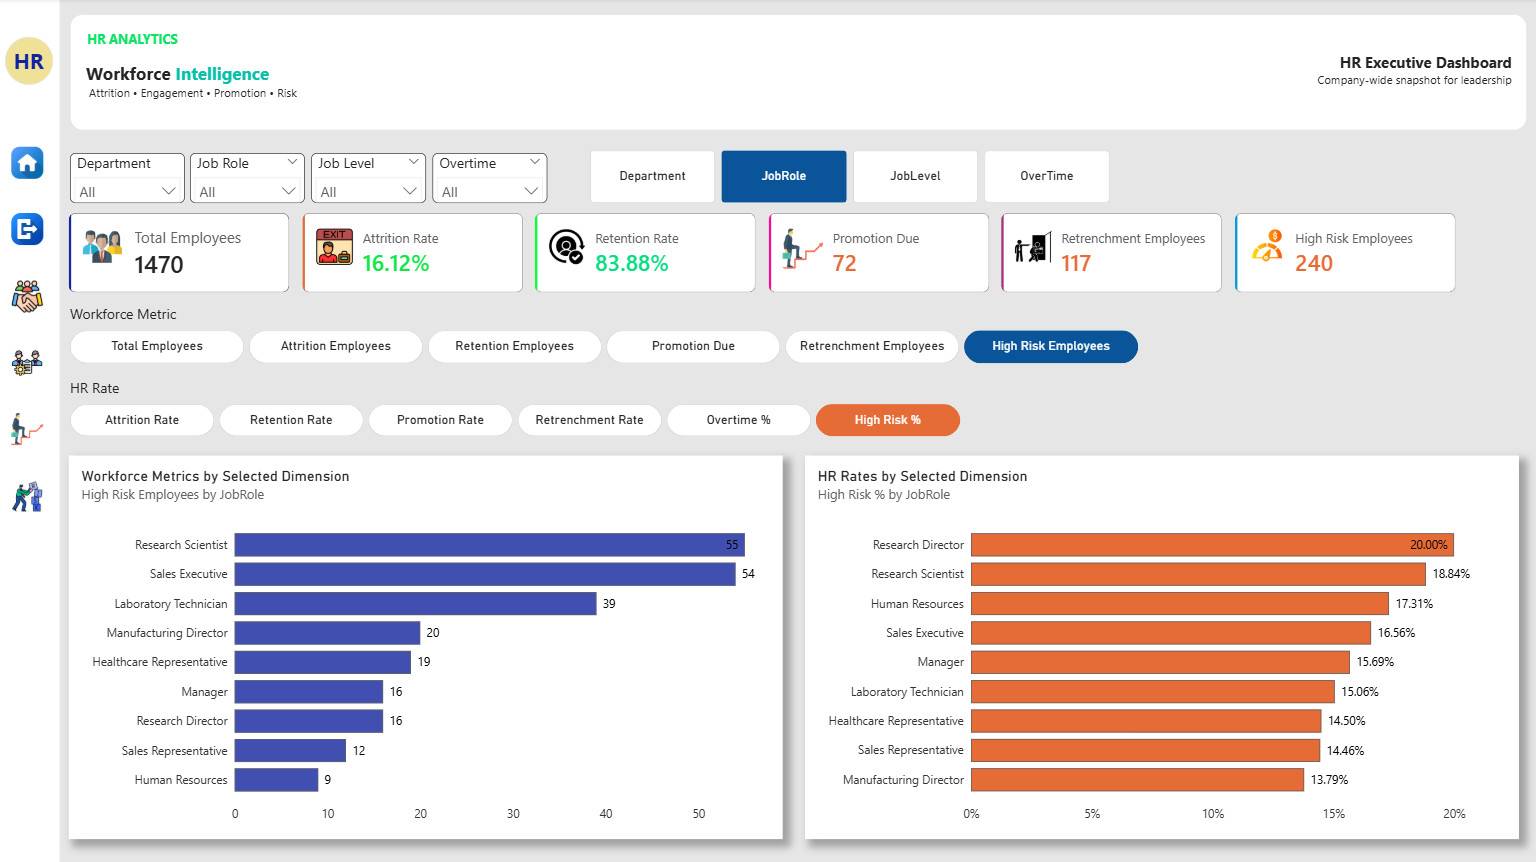

The page's visual inventory and layout, read from the dashboard file:
{"tool":"powerbi","page":{"name":"HR ANALYTICS DASHBOARD","canvas":[1920,1080],"ordinal":0},"visuals":[{"type":"group","id":"g1","title":"Navgitor","box":[0,0,1903.3,1079.3],"z":0},{"type":"textbox","box":[86.7,20,1816.7,145],"z":0,"group":"g1"},{"type":"textbox","box":[1631.6,48.3,253.3,91.7],"z":0,"group":"g2"},{"type":"group","id":"g2","title":"Overview","box":[85.7,48.3,1808.3,1000.4],"z":500},{"type":"textbox","title":"navbox","box":[0,0,74.1,1079.3],"z":1000,"group":"g1"},{"type":"slicer","fields":{"Values":["HR.Department"]},"box":[86.5,194,143.3,62.7],"z":1000,"group":"g2"},{"type":"image","box":[13.3,185.7,40,40],"z":2000,"group":"g1"},{"type":"slicer","fields":{"Values":["HR.JobRole"]},"box":[237.6,194,143.3,62.7],"z":2000,"group":"g2"},{"type":"slicer","fields":{"Values":["HR.JobLevel"]},"box":[388.6,194,143.3,62.7],"z":3000,"group":"g2"},{"type":"image","box":[13.3,268.8,40,40],"z":3000,"group":"g1"},{"type":"slicer","fields":{"Values":["HR.OverTime"]},"box":[539.7,194,143.3,62.7],"z":4000,"group":"g2"},{"type":"image","box":[13.3,351.9,40,40],"z":4000,"group":"g1"},{"type":"cardVisual","fields":{"Data":["#Measures.total employees"]},"box":[86.1,268,275,99],"z":5000,"group":"g2"},{"type":"image","box":[13.3,435,40,40],"z":5000,"group":"g1"},{"type":"image","box":[13.3,518.1,40,40],"z":6000,"group":"g1"},{"type":"clusteredBarChart","title":"Workforce Metrics by Selected Dimension","fields":{"Category":["HR.Overtime"],"Y":["#Measures.High Risk Employees"]},"box":[85.7,570.5,890,478.2],"z":6000,"group":"g2"},{"type":"clusteredBarChart","title":"HR Rates by Selected Dimension","fields":{"Category":["HR.Overtime"],"Y":["#Measures.High Risk %"]},"box":[1004,570.5,890,478],"z":7000,"group":"g2"},{"type":"image","box":[13.3,601.1,40,40],"z":7000,"group":"g1"},{"type":"textbox","title":"HR logo","box":[6.5,47.6,60,60],"z":8000,"group":"g1"},{"type":"cardVisual","fields":{"Data":["#Measures.Promotion Due"]},"box":[958.6,268,275,99],"z":8000,"group":"g2"},{"type":"cardVisual","fields":{"Data":["#Measures.Retrenchment Employees"]},"box":[1249.4,268,275,99],"z":9000,"group":"g2"},{"type":"cardVisual","fields":{"Data":["#Measures.High Risk Employees"]},"box":[1540.2,268,275,99],"z":10000,"group":"g2"},{"type":"cardVisual","fields":{"Data":["#Measures.Retention Rate"]},"box":[667.7,268,275,99],"z":11000,"group":"g2"},{"type":"cardVisual","fields":{"Data":["#Measures.Attrition Rate"]},"box":[376.9,268,275,99],"z":12000,"group":"g2"},{"type":"advancedSlicerVisual","title":"Workforce Metric","fields":{"Values":["HR Metric.HR Metric"]},"box":[86.8,381.9,1337.7,73.8],"z":13000,"group":"g2"},{"type":"advancedSlicerVisual","fields":{"Values":["HR Rate.HR Rate"]},"box":[86.8,473.7,1111.5,73],"z":14000,"group":"g2"},{"type":"advancedSlicerVisual","fields":{"Values":["HR x-axis.HR x-axis"]},"box":[736,190.1,650.8,65.6],"z":15000,"group":"g2"}]}

Visuals, with their boxes on the page's 1920x1080 design canvas (x1, y1, x2, y2). These are canvas units, not pixel positions in the 1536x862 screenshot, which may show the page scaled, cropped or inside an application window:
"Navgitor" group: box=[0, 0, 1903, 1079]
textbox: box=[87, 20, 1903, 165]
textbox: box=[1632, 48, 1885, 140]
"Overview" group: box=[86, 48, 1894, 1049]
"navbox" textbox: box=[0, 0, 74, 1079]
slicer - HR.Department: box=[86, 194, 230, 257]
image: box=[13, 186, 53, 226]
slicer - HR.JobRole: box=[238, 194, 381, 257]
slicer - HR.JobLevel: box=[389, 194, 532, 257]
image: box=[13, 269, 53, 309]
slicer - HR.OverTime: box=[540, 194, 683, 257]
image: box=[13, 352, 53, 392]
cardVisual - #Measures.total employees: box=[86, 268, 361, 367]
image: box=[13, 435, 53, 475]
image: box=[13, 518, 53, 558]
"Workforce Metrics by Selected Dimension" clusteredBarChart: box=[86, 570, 976, 1049]
"HR Rates by Selected Dimension" clusteredBarChart: box=[1004, 570, 1894, 1048]
image: box=[13, 601, 53, 641]
"HR logo" textbox: box=[6, 48, 66, 108]
cardVisual - #Measures.Promotion Due: box=[959, 268, 1234, 367]
cardVisual - #Measures.Retrenchment Employees: box=[1249, 268, 1524, 367]
cardVisual - #Measures.High Risk Employees: box=[1540, 268, 1815, 367]
cardVisual - #Measures.Retention Rate: box=[668, 268, 943, 367]
cardVisual - #Measures.Attrition Rate: box=[377, 268, 652, 367]
"Workforce Metric" advancedSlicerVisual: box=[87, 382, 1424, 456]
advancedSlicerVisual - HR Rate.HR Rate: box=[87, 474, 1198, 547]
advancedSlicerVisual - HR x-axis.HR x-axis: box=[736, 190, 1387, 256]
